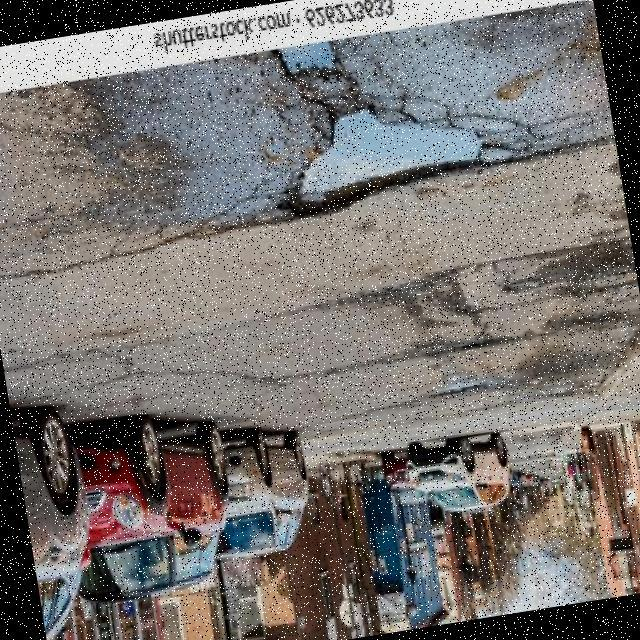Pothole: (272, 41, 482, 220)
